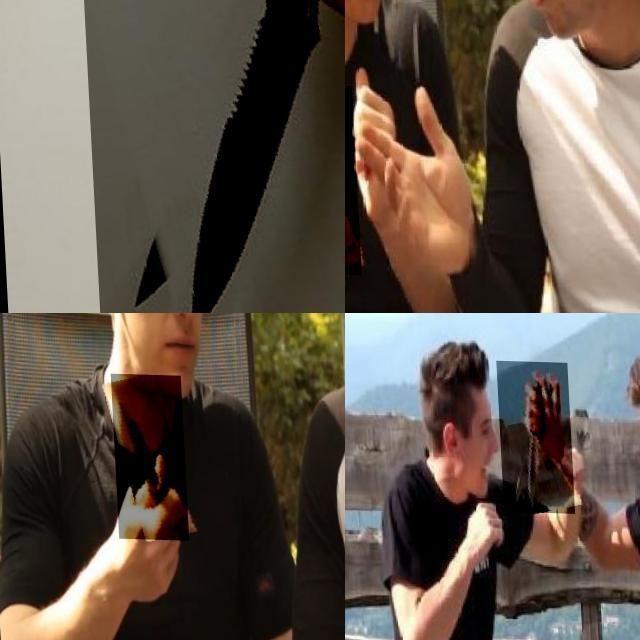-: (73, 0, 345, 313), (108, 372, 184, 540), (496, 358, 572, 512), (345, 82, 390, 274)
